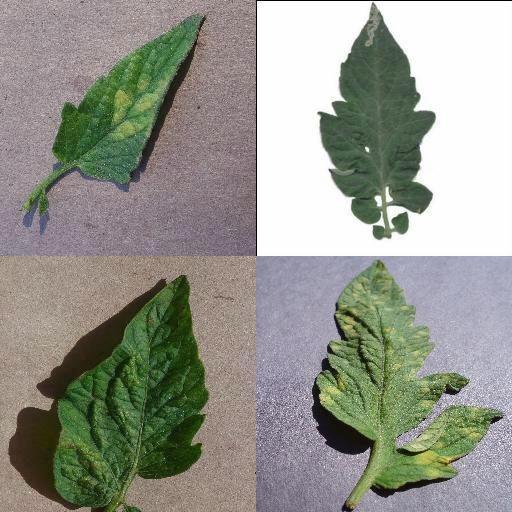Leaf Miner: (318, 1, 440, 200)
Leaf Mold: (318, 257, 504, 489), (54, 11, 206, 185)
Spider Mites: (53, 273, 209, 509)
